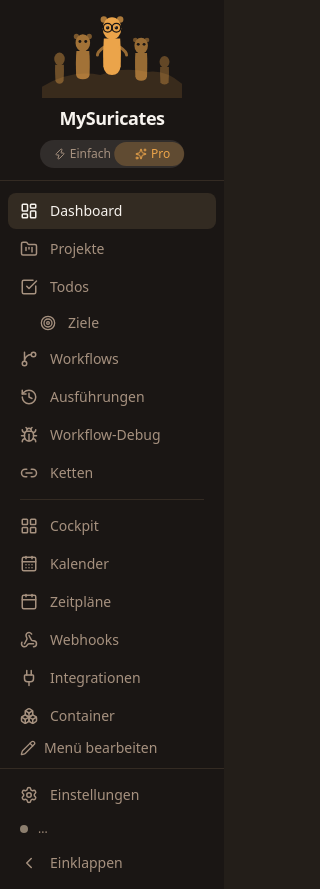
Sidebar edit controls › labels the edit controls in German
Click the button "Menü bearbeiten": (112, 748) x1=8 y1=732 x2=216 y2=764
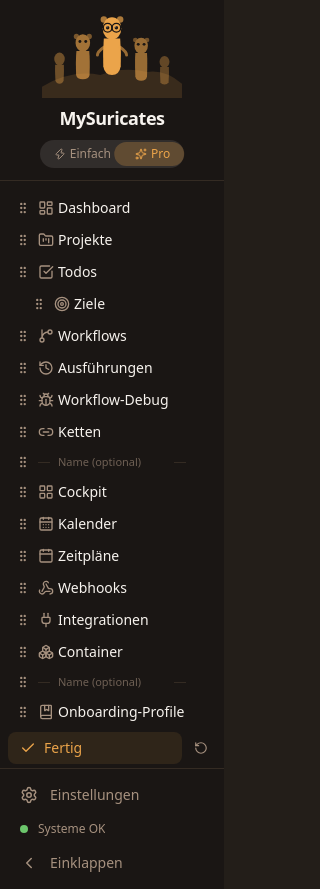
Check: the button with aria-label "Bearbeitung beenden" reads "Fertig", box x1=8 y1=732 x2=182 y2=764
Check: the button named "Workflows verschieben" is shown, box x1=12 y1=325 x2=34 y2=347
